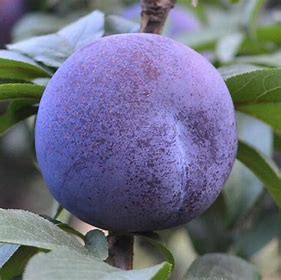plum_A: (34, 32, 237, 234)
